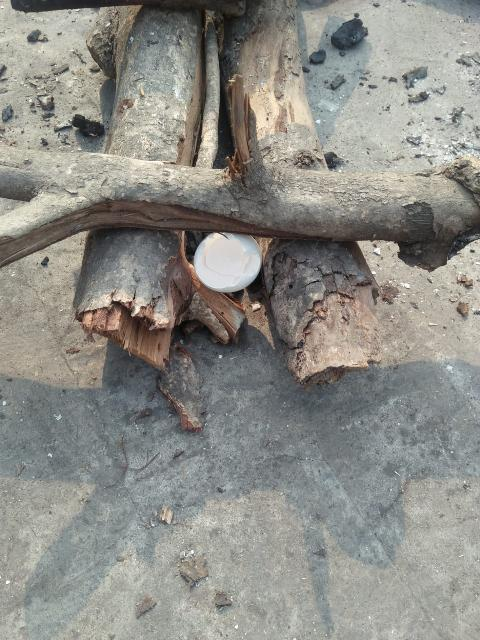Roto: (192, 232, 264, 293)
